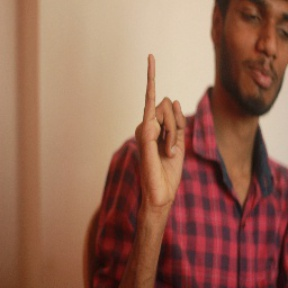I: (135, 54, 188, 199)
